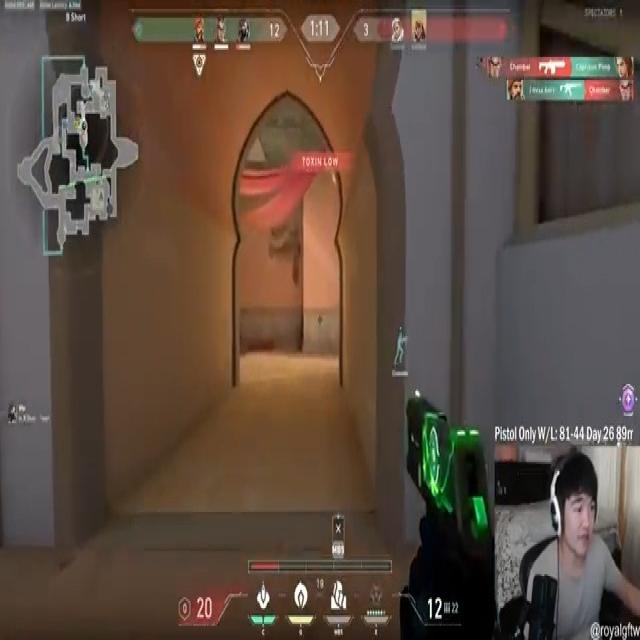ally behind wall: (393, 332, 409, 367)
